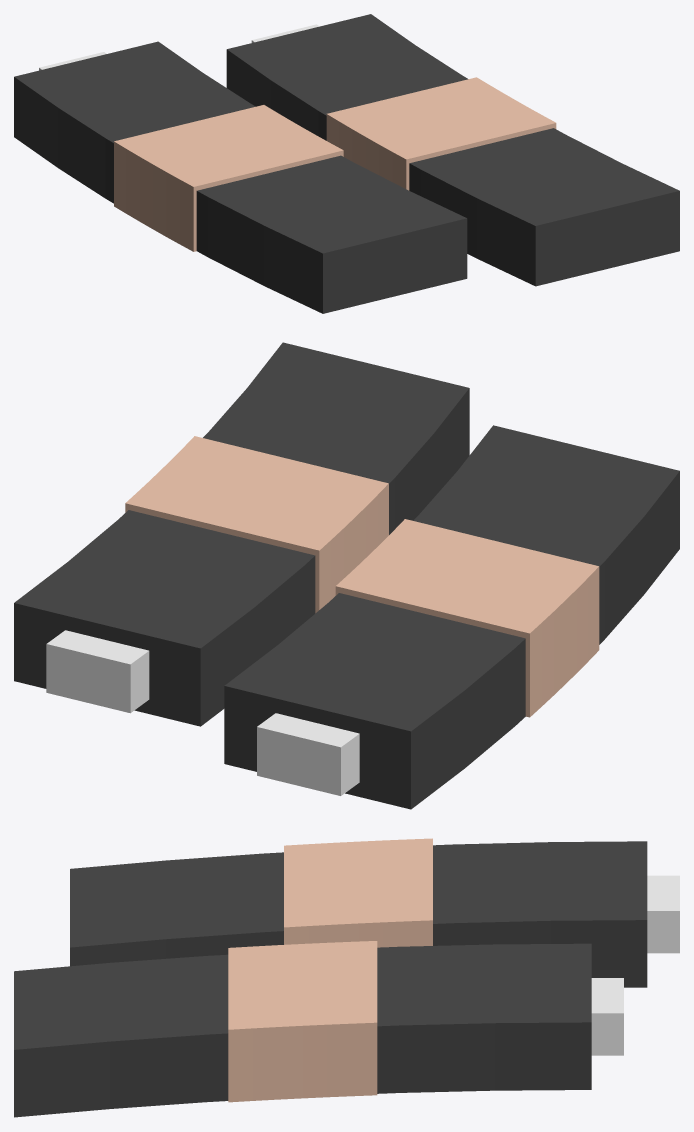
File: ce_ammo_rifle_sabot_b.obj
3 views of the same model, one above another, from view 1: azimuth 30°, elevation 25°; view 2: azimuth 150°, elevation 25°; view 3: azimuth 270°, elevation 25° (orthographic). The views are drawn at different scales.
Parts seen in each view (by area): view 1: ce_ammo_rifle_sabot_b_0, ce_ammo_rifle_sabot_b_3, ce_ammo_rifle_sabot_b_1, ce_ammo_rifle_sabot_b_4; view 2: ce_ammo_rifle_sabot_b_0, ce_ammo_rifle_sabot_b_3, ce_ammo_rifle_sabot_b_1, ce_ammo_rifle_sabot_b_4, ce_ammo_rifle_sabot_b_5, ce_ammo_rifle_sabot_b_2; view 3: ce_ammo_rifle_sabot_b_3, ce_ammo_rifle_sabot_b_0, ce_ammo_rifle_sabot_b_4, ce_ammo_rifle_sabot_b_1, ce_ammo_rifle_sabot_b_2, ce_ammo_rifle_sabot_b_5.
Boxes of the visible parts, box(x1,y1,x2,y2) form: ce_ammo_rifle_sabot_b_0: box(14, 41, 467, 313); ce_ammo_rifle_sabot_b_3: box(226, 14, 679, 286); ce_ammo_rifle_sabot_b_1: box(114, 105, 343, 251); ce_ammo_rifle_sabot_b_4: box(326, 77, 556, 190); ce_ammo_rifle_sabot_b_0: box(224, 425, 679, 809); ce_ammo_rifle_sabot_b_3: box(14, 342, 469, 726); ce_ammo_rifle_sabot_b_1: box(335, 519, 599, 717); ce_ammo_rifle_sabot_b_4: box(125, 436, 388, 613); ce_ammo_rifle_sabot_b_5: box(46, 630, 149, 713); ce_ammo_rifle_sabot_b_2: box(257, 713, 359, 795); ce_ammo_rifle_sabot_b_3: box(14, 943, 591, 1117); ce_ammo_rifle_sabot_b_0: box(70, 841, 647, 987); ce_ammo_rifle_sabot_b_4: box(228, 941, 377, 1102); ce_ammo_rifle_sabot_b_1: box(284, 838, 432, 947); ce_ammo_rifle_sabot_b_2: box(647, 875, 679, 953); ce_ammo_rifle_sabot_b_5: box(591, 978, 623, 1055).
Size of the model in its own units: 0.53 by 0.086 by 0.715.
